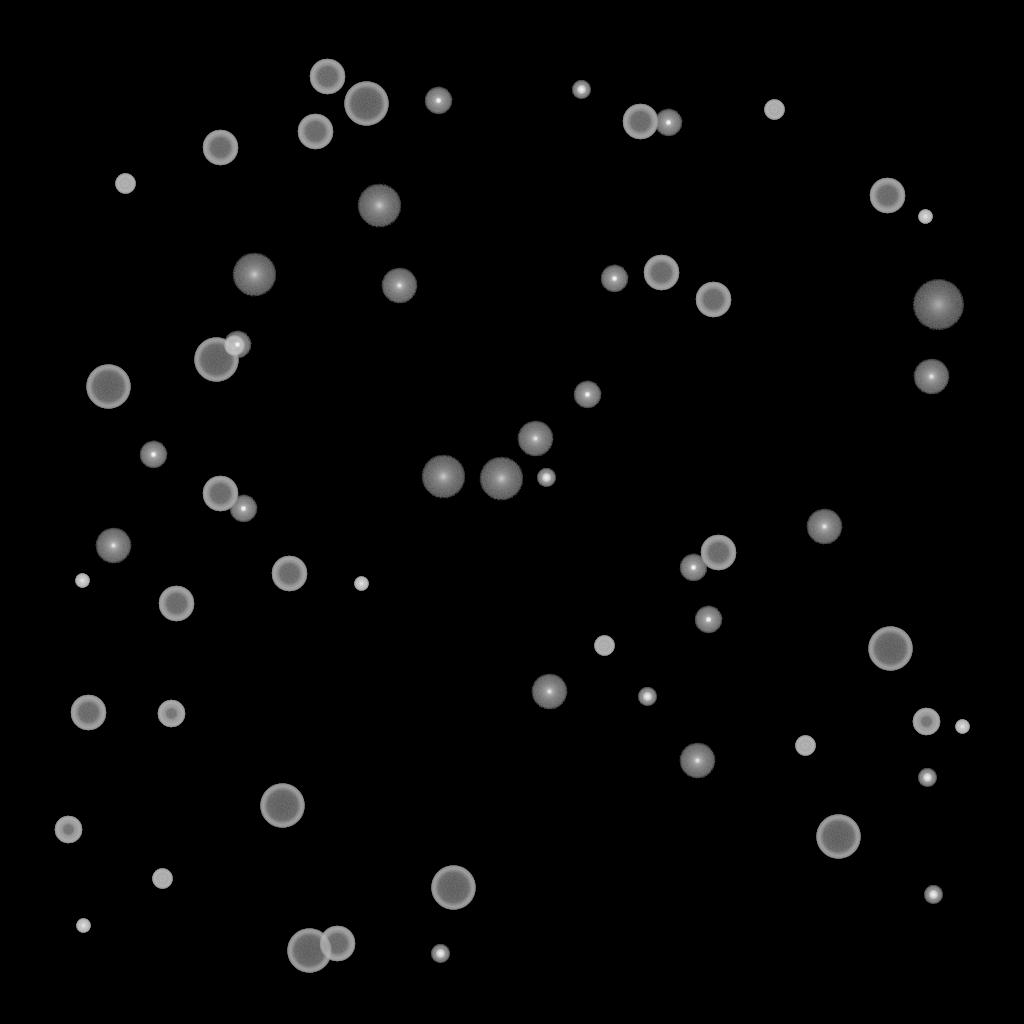depth:-10: (223, 331, 251, 359), (424, 87, 452, 115), (679, 554, 707, 582), (229, 495, 257, 523), (694, 606, 722, 634), (139, 441, 167, 469), (573, 381, 601, 409), (600, 265, 628, 293), (654, 109, 682, 137)
depth:-20: (537, 469, 555, 487), (918, 769, 936, 787), (924, 886, 942, 904), (431, 945, 449, 963), (638, 688, 656, 706), (572, 81, 590, 99)
depth:-30: (354, 577, 368, 591), (76, 919, 90, 933), (918, 210, 932, 224), (75, 574, 89, 588), (955, 720, 969, 734)
depth:-40: (795, 736, 815, 756), (115, 174, 135, 194), (152, 869, 172, 889), (764, 100, 784, 120), (224, 336, 244, 356), (594, 636, 614, 656)
depth:-50: (157, 700, 185, 728), (912, 708, 940, 736), (54, 816, 82, 844)
depth:-60: (695, 282, 731, 318), (319, 926, 355, 962), (202, 476, 238, 512), (158, 586, 194, 622), (70, 695, 106, 731), (700, 535, 736, 571), (622, 104, 658, 140), (271, 556, 307, 592), (202, 130, 238, 166), (869, 178, 905, 214), (643, 255, 679, 291), (297, 114, 333, 150), (309, 59, 345, 95)
depth:-70: (816, 815, 860, 859), (260, 784, 304, 828), (194, 338, 238, 382), (344, 82, 388, 126), (868, 627, 912, 671), (287, 929, 331, 973), (431, 866, 475, 910), (86, 365, 130, 409)
depth:0: (679, 743, 715, 779), (806, 509, 842, 545), (531, 674, 567, 710), (517, 421, 553, 457), (381, 268, 417, 304), (913, 359, 949, 395), (95, 528, 131, 564)
depth:10: (232, 253, 276, 297), (357, 184, 401, 228), (421, 455, 465, 499), (479, 457, 523, 501)
depth:20: (912, 280, 964, 330)
